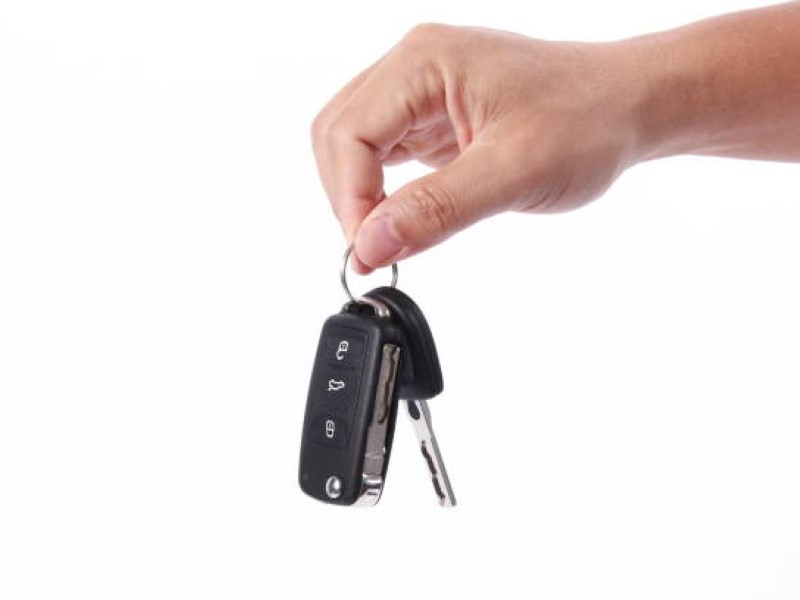carkey: (291, 273, 460, 508)
